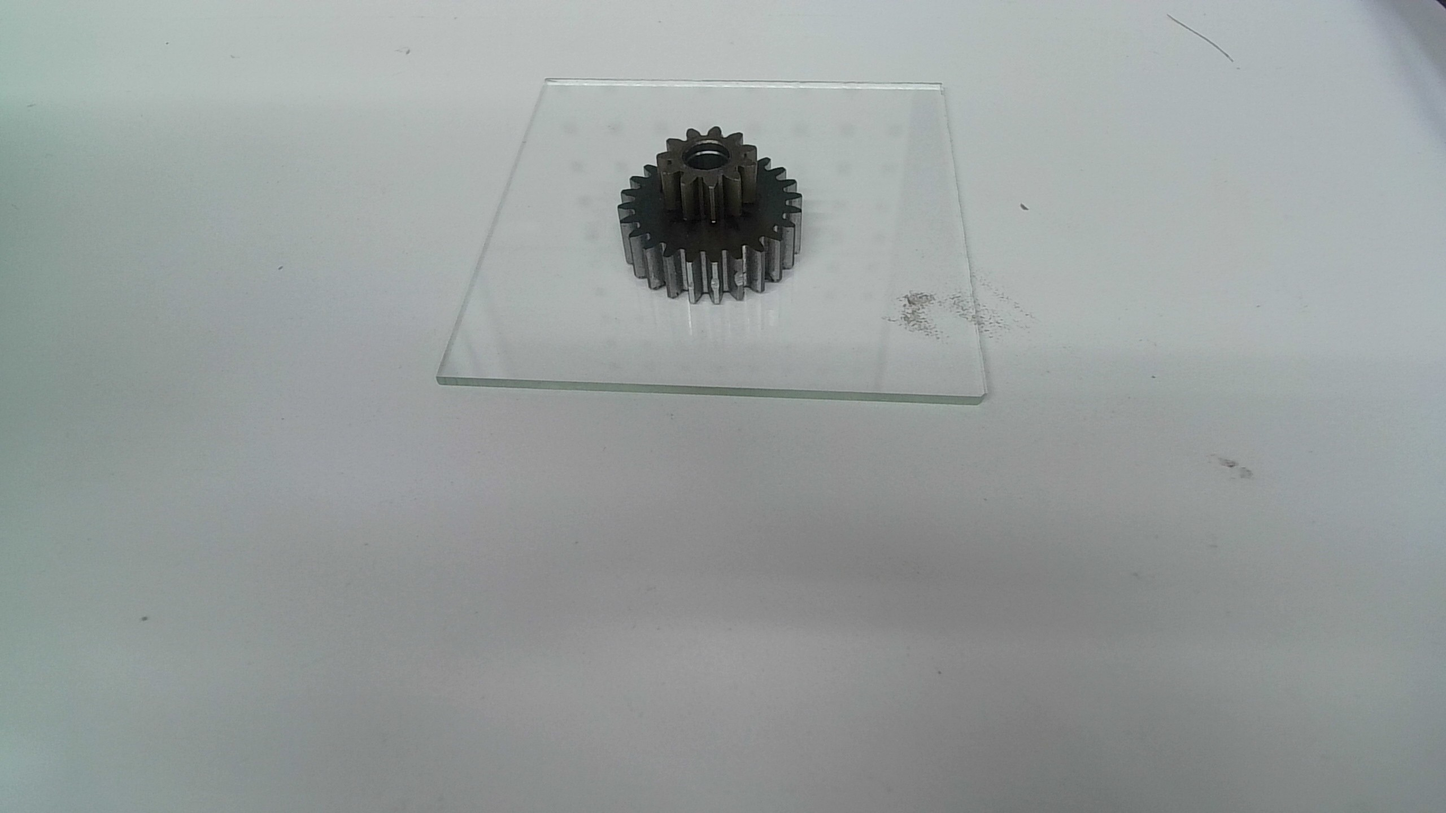gear: (617, 126, 805, 307)
